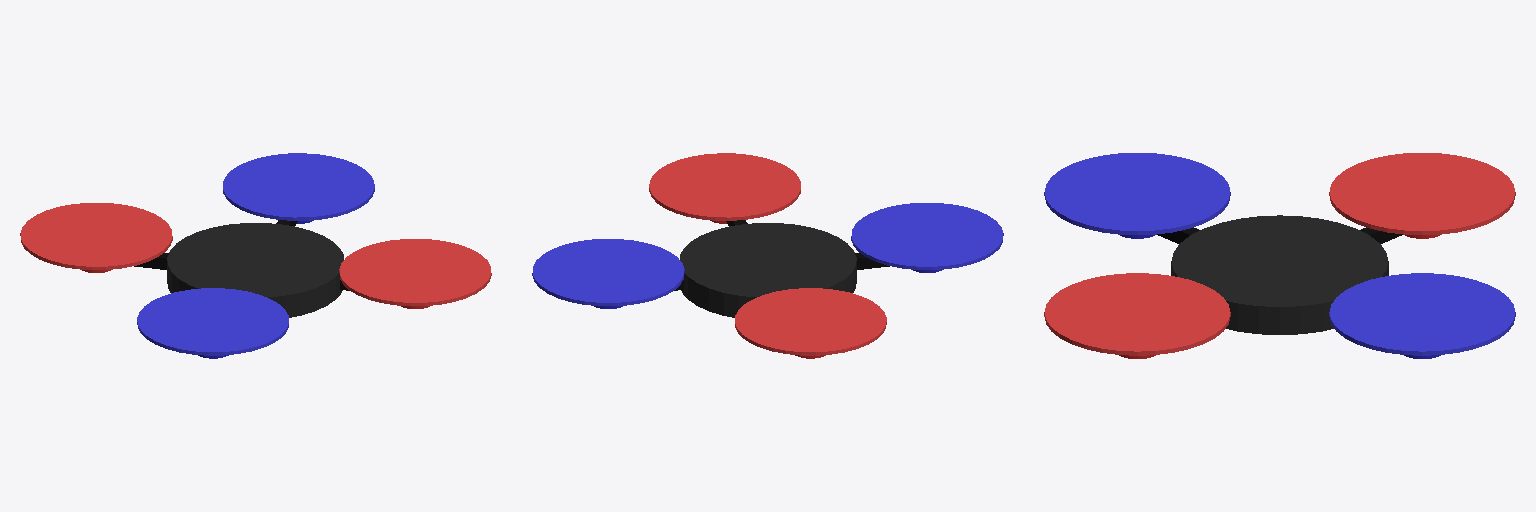
URDF robot description (heavy_drone):
<?xml version="1.0"?>
<robot name="heavy_drone">

  <material name="dark_grey"><color rgba="0.2 0.2 0.2 1.0"/></material>
  <material name="carbon"><color rgba="0.1 0.1 0.1 1.0"/></material>
  <material name="motor_cw"><color rgba="0.8 0.2 0.2 1.0"/></material>
  <material name="motor_ccw"><color rgba="0.2 0.2 0.8 1.0"/></material>
  <material name="prop_cw"><color rgba="0.9 0.3 0.3 0.6"/></material>
  <material name="prop_ccw"><color rgba="0.3 0.3 0.9 0.6"/></material>

  <link name="base_link">
    <inertial>
      <origin xyz="0 0 0" rpy="0 0 0"/>
      <mass value="0.72"/>
      <inertia ixx="0.0036" ixy="0" ixz="0" iyy="0.0036" iyz="0" izz="0.0070"/>
    </inertial>
    <visual>
      <geometry><cylinder length="0.04" radius="0.14"/></geometry>
      <material name="dark_grey"/>
    </visual>
    <collision>
      <geometry><cylinder length="0.04" radius="0.14"/></geometry>
    </collision>
  </link>

  <link name="arm_fl">
    <inertial>
      <origin xyz="0.092 0 0" rpy="0 0 0"/>
      <mass value="0.04"/>
      <inertia ixx="2.67e-6" ixy="0" ixz="0" iyy="1.14e-4" iyz="0" izz="1.14e-4"/>
    </inertial>
    <visual>
      <origin xyz="0.092 0 0" rpy="0 0 0"/>
      <geometry><box size="0.184 0.02 0.02"/></geometry>
      <material name="carbon"/>
    </visual>
    <collision>
      <origin xyz="0.092 0 0" rpy="0 0 0"/>
      <geometry><box size="0.184 0.02 0.02"/></geometry>
    </collision>
  </link>
  <joint name="joint_arm_fl" type="fixed">
    <parent link="base_link"/>
    <child link="arm_fl"/>
    <origin xyz="0.0762 0.0762 0" rpy="0 0 0.7854"/>
  </joint>

  <link name="arm_fr">
    <inertial>
      <origin xyz="0.092 0 0" rpy="0 0 0"/>
      <mass value="0.04"/>
      <inertia ixx="2.67e-6" ixy="0" ixz="0" iyy="1.14e-4" iyz="0" izz="1.14e-4"/>
    </inertial>
    <visual>
      <origin xyz="0.092 0 0" rpy="0 0 0"/>
      <geometry><box size="0.184 0.02 0.02"/></geometry>
      <material name="carbon"/>
    </visual>
    <collision>
      <origin xyz="0.092 0 0" rpy="0 0 0"/>
      <geometry><box size="0.184 0.02 0.02"/></geometry>
    </collision>
  </link>
  <joint name="joint_arm_fr" type="fixed">
    <parent link="base_link"/>
    <child link="arm_fr"/>
    <origin xyz="0.0762 -0.0762 0" rpy="0 0 -0.7854"/>
  </joint>

  <link name="arm_bl">
    <inertial>
      <origin xyz="0.092 0 0" rpy="0 0 0"/>
      <mass value="0.04"/>
      <inertia ixx="2.67e-6" ixy="0" ixz="0" iyy="1.14e-4" iyz="0" izz="1.14e-4"/>
    </inertial>
    <visual>
      <origin xyz="0.092 0 0" rpy="0 0 0"/>
      <geometry><box size="0.184 0.02 0.02"/></geometry>
      <material name="carbon"/>
    </visual>
    <collision>
      <origin xyz="0.092 0 0" rpy="0 0 0"/>
      <geometry><box size="0.184 0.02 0.02"/></geometry>
    </collision>
  </link>
  <joint name="joint_arm_bl" type="fixed">
    <parent link="base_link"/>
    <child link="arm_bl"/>
    <origin xyz="-0.0762 0.0762 0" rpy="0 0 2.3562"/>
  </joint>

  <link name="arm_br">
    <inertial>
      <origin xyz="0.092 0 0" rpy="0 0 0"/>
      <mass value="0.04"/>
      <inertia ixx="2.67e-6" ixy="0" ixz="0" iyy="1.14e-4" iyz="0" izz="1.14e-4"/>
    </inertial>
    <visual>
      <origin xyz="0.092 0 0" rpy="0 0 0"/>
      <geometry><box size="0.184 0.02 0.02"/></geometry>
      <material name="carbon"/>
    </visual>
    <collision>
      <origin xyz="0.092 0 0" rpy="0 0 0"/>
      <geometry><box size="0.184 0.02 0.02"/></geometry>
    </collision>
  </link>
  <joint name="joint_arm_br" type="fixed">
    <parent link="base_link"/>
    <child link="arm_br"/>
    <origin xyz="-0.0762 -0.0762 0" rpy="0 0 -2.3562"/>
  </joint>

  <link name="motor_fl">
    <inertial>
      <origin xyz="0 0 0" rpy="0 0 0"/>
      <mass value="0.02"/>
      <inertia ixx="7.16e-6" ixy="0" ixz="0" iyy="7.16e-6" iyz="0" izz="9.0e-6"/>
    </inertial>
    <visual>
      <geometry><cylinder length="0.04" radius="0.03"/></geometry>
      <material name="motor_ccw"/>
    </visual>
    <collision>
      <geometry><cylinder length="0.04" radius="0.03"/></geometry>
    </collision>
  </link>
  <joint name="joint_motor_fl" type="fixed">
    <parent link="base_link"/>
    <child link="motor_fl"/>
    <origin xyz="0.1838 0.1838 0" rpy="0 0 0"/>
  </joint>

  <link name="motor_fr">
    <inertial>
      <origin xyz="0 0 0" rpy="0 0 0"/>
      <mass value="0.02"/>
      <inertia ixx="7.16e-6" ixy="0" ixz="0" iyy="7.16e-6" iyz="0" izz="9.0e-6"/>
    </inertial>
    <visual>
      <geometry><cylinder length="0.04" radius="0.03"/></geometry>
      <material name="motor_cw"/>
    </visual>
    <collision>
      <geometry><cylinder length="0.04" radius="0.03"/></geometry>
    </collision>
  </link>
  <joint name="joint_motor_fr" type="fixed">
    <parent link="base_link"/>
    <child link="motor_fr"/>
    <origin xyz="0.1838 -0.1838 0" rpy="0 0 0"/>
  </joint>

  <link name="motor_bl">
    <inertial>
      <origin xyz="0 0 0" rpy="0 0 0"/>
      <mass value="0.02"/>
      <inertia ixx="7.16e-6" ixy="0" ixz="0" iyy="7.16e-6" iyz="0" izz="9.0e-6"/>
    </inertial>
    <visual>
      <geometry><cylinder length="0.04" radius="0.03"/></geometry>
      <material name="motor_cw"/>
    </visual>
    <collision>
      <geometry><cylinder length="0.04" radius="0.03"/></geometry>
    </collision>
  </link>
  <joint name="joint_motor_bl" type="fixed">
    <parent link="base_link"/>
    <child link="motor_bl"/>
    <origin xyz="-0.1838 0.1838 0" rpy="0 0 0"/>
  </joint>

  <link name="motor_br">
    <inertial>
      <origin xyz="0 0 0" rpy="0 0 0"/>
      <mass value="0.02"/>
      <inertia ixx="7.16e-6" ixy="0" ixz="0" iyy="7.16e-6" iyz="0" izz="9.0e-6"/>
    </inertial>
    <visual>
      <geometry><cylinder length="0.04" radius="0.03"/></geometry>
      <material name="motor_ccw"/>
    </visual>
    <collision>
      <geometry><cylinder length="0.04" radius="0.03"/></geometry>
    </collision>
  </link>
  <joint name="joint_motor_br" type="fixed">
    <parent link="base_link"/>
    <child link="motor_br"/>
    <origin xyz="-0.1838 -0.1838 0" rpy="0 0 0"/>
  </joint>

  <link name="prop_fl">
    <inertial>
      <origin xyz="0 0 0" rpy="0 0 0"/>
      <mass value="0.02"/>
      <inertia ixx="7.2e-5" ixy="0" ixz="0" iyy="7.2e-5" iyz="0" izz="1.44e-4"/>
    </inertial>
    <visual>
      <origin xyz="0 0 0.01" rpy="0 0 0"/>
      <geometry><cylinder length="0.006" radius="0.12"/></geometry>
      <material name="prop_ccw"/>
    </visual>
    <collision>
      <origin xyz="0 0 0.01" rpy="0 0 0"/>
      <geometry><cylinder length="0.006" radius="0.12"/></geometry>
    </collision>
  </link>
  <joint name="joint_prop_fl" type="fixed">
    <parent link="motor_fl"/>
    <child link="prop_fl"/>
    <origin xyz="0 0 0.02" rpy="0 0 0"/>
  </joint>

  <link name="prop_fr">
    <inertial>
      <origin xyz="0 0 0" rpy="0 0 0"/>
      <mass value="0.02"/>
      <inertia ixx="7.2e-5" ixy="0" ixz="0" iyy="7.2e-5" iyz="0" izz="1.44e-4"/>
    </inertial>
    <visual>
      <origin xyz="0 0 0.01" rpy="0 0 0"/>
      <geometry><cylinder length="0.006" radius="0.12"/></geometry>
      <material name="prop_cw"/>
    </visual>
    <collision>
      <origin xyz="0 0 0.01" rpy="0 0 0"/>
      <geometry><cylinder length="0.006" radius="0.12"/></geometry>
    </collision>
  </link>
  <joint name="joint_prop_fr" type="fixed">
    <parent link="motor_fr"/>
    <child link="prop_fr"/>
    <origin xyz="0 0 0.02" rpy="0 0 0"/>
  </joint>

  <link name="prop_bl">
    <inertial>
      <origin xyz="0 0 0" rpy="0 0 0"/>
      <mass value="0.02"/>
      <inertia ixx="7.2e-5" ixy="0" ixz="0" iyy="7.2e-5" iyz="0" izz="1.44e-4"/>
    </inertial>
    <visual>
      <origin xyz="0 0 0.01" rpy="0 0 0"/>
      <geometry><cylinder length="0.006" radius="0.12"/></geometry>
      <material name="prop_cw"/>
    </visual>
    <collision>
      <origin xyz="0 0 0.01" rpy="0 0 0"/>
      <geometry><cylinder length="0.006" radius="0.12"/></geometry>
    </collision>
  </link>
  <joint name="joint_prop_bl" type="fixed">
    <parent link="motor_bl"/>
    <child link="prop_bl"/>
    <origin xyz="0 0 0.02" rpy="0 0 0"/>
  </joint>

  <link name="prop_br">
    <inertial>
      <origin xyz="0 0 0" rpy="0 0 0"/>
      <mass value="0.02"/>
      <inertia ixx="7.2e-5" ixy="0" ixz="0" iyy="7.2e-5" iyz="0" izz="1.44e-4"/>
    </inertial>
    <visual>
      <origin xyz="0 0 0.01" rpy="0 0 0"/>
      <geometry><cylinder length="0.006" radius="0.12"/></geometry>
      <material name="prop_ccw"/>
    </visual>
    <collision>
      <origin xyz="0 0 0.01" rpy="0 0 0"/>
      <geometry><cylinder length="0.006" radius="0.12"/></geometry>
    </collision>
  </link>
  <joint name="joint_prop_br" type="fixed">
    <parent link="motor_br"/>
    <child link="prop_br"/>
    <origin xyz="0 0 0.02" rpy="0 0 0"/>
  </joint>

</robot>

--- Render facts (derived) ---
3 views of the same robot in one strip: view 1: azimuth 30°, elevation 25°; view 2: azimuth 150°, elevation 25°; view 3: azimuth 270°, elevation 25° (orthographic).
Robot: heavy_drone — 13 links, 12 joints (12 fixed); root link base_link; default pose: every joint at zero.
Visible links, largest first — view 1: base_link, prop_fl, prop_br, prop_fr, prop_bl; view 2: base_link, prop_fr, prop_bl, prop_fl, prop_br; view 3: base_link, prop_fl, prop_fr, prop_bl, prop_br.
Link boxes in pixels (<box>): base_link: <box>167,223,343,317</box>; prop_fl: <box>223,153,374,220</box>; prop_br: <box>137,288,288,355</box>; prop_fr: <box>339,239,491,305</box>; prop_bl: <box>20,203,172,269</box>; base_link: <box>680,223,856,317</box>; prop_fr: <box>649,153,800,220</box>; prop_bl: <box>735,288,886,355</box>; prop_fl: <box>532,239,684,305</box>; prop_br: <box>851,203,1003,269</box>; base_link: <box>1171,215,1388,334</box>; prop_fl: <box>1329,273,1515,355</box>; prop_fr: <box>1044,273,1230,355</box>; prop_bl: <box>1329,153,1515,234</box>; prop_br: <box>1044,153,1230,234</box>.
Size in the robot's own frame: 0.6076 by 0.6076 by 0.053 metres.
Geometry: primitives only (box / cylinder / sphere), no mesh files.
